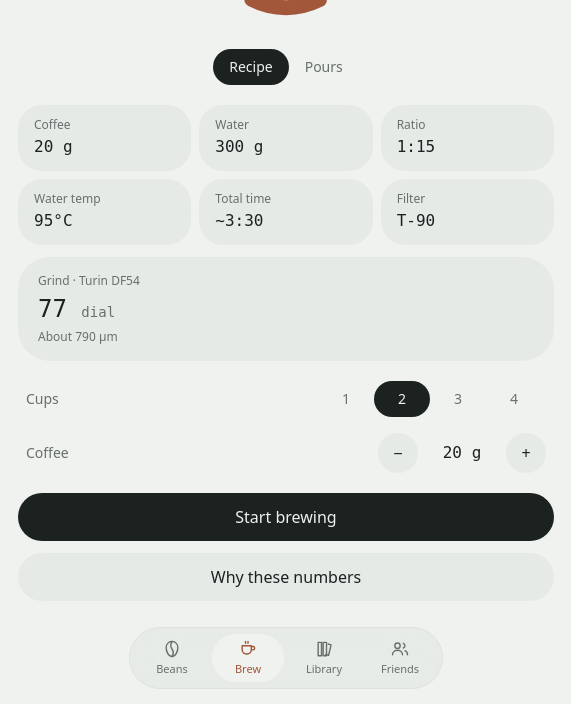
Test case: Logging › can be finished without the timer: same bag changes, and no total time is logged
(page scrolled)
Click the button "Start brewing" at (286, 517), box x1=18 y1=493 x2=554 y2=541
(page scrolled)
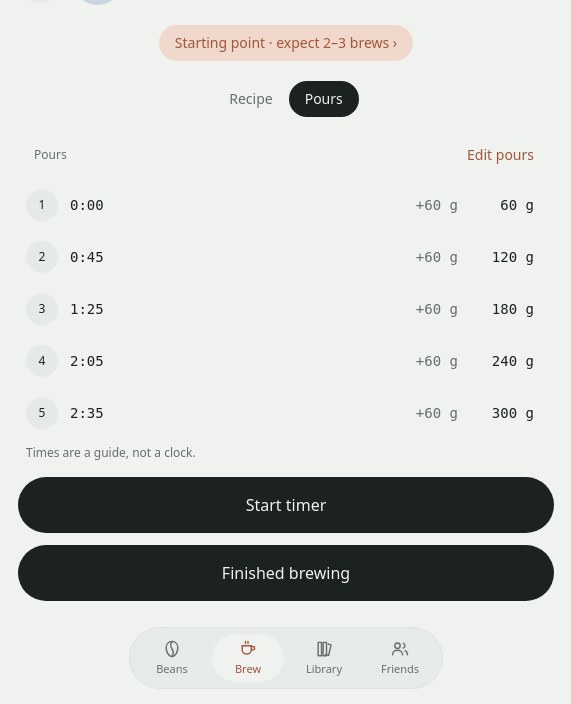
Click the button "Finished brewing" at (286, 573), box x1=18 y1=545 x2=554 y2=601
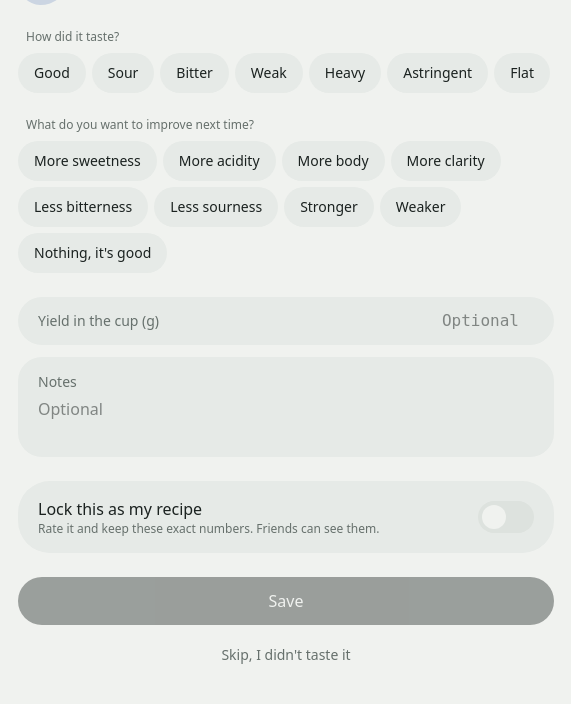
expect the button "Total" is not shown: met
Click the button "Good" at (52, 73), box x1=18 y1=53 x2=86 y2=93
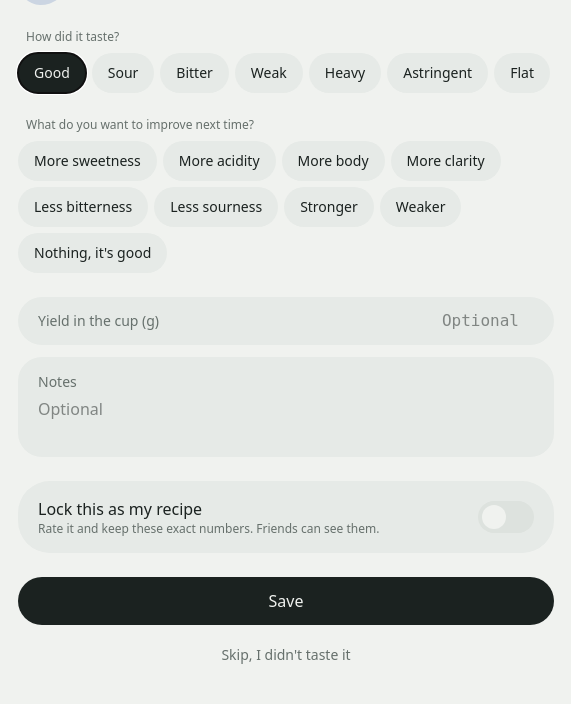
Click the button "Save" at (286, 601), box x1=18 y1=577 x2=554 y2=625
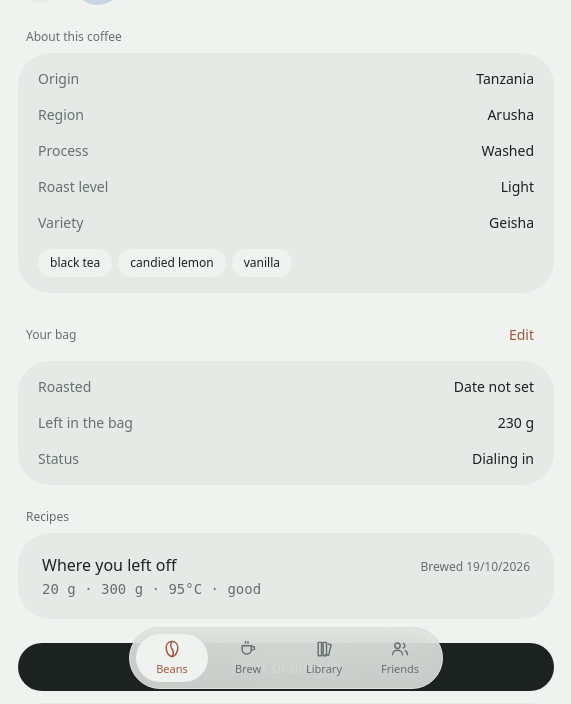
expect the link "Where you left off" is shown: met, box x1=26 y1=541 x2=546 y2=611
